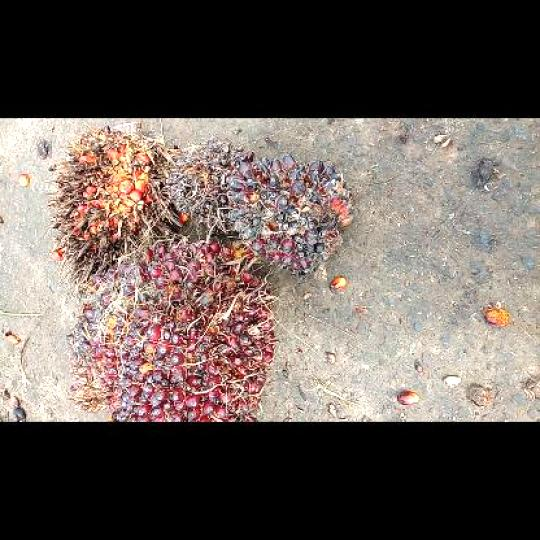masak: (66, 234, 279, 420)
terlalu masak: (43, 119, 170, 298)
